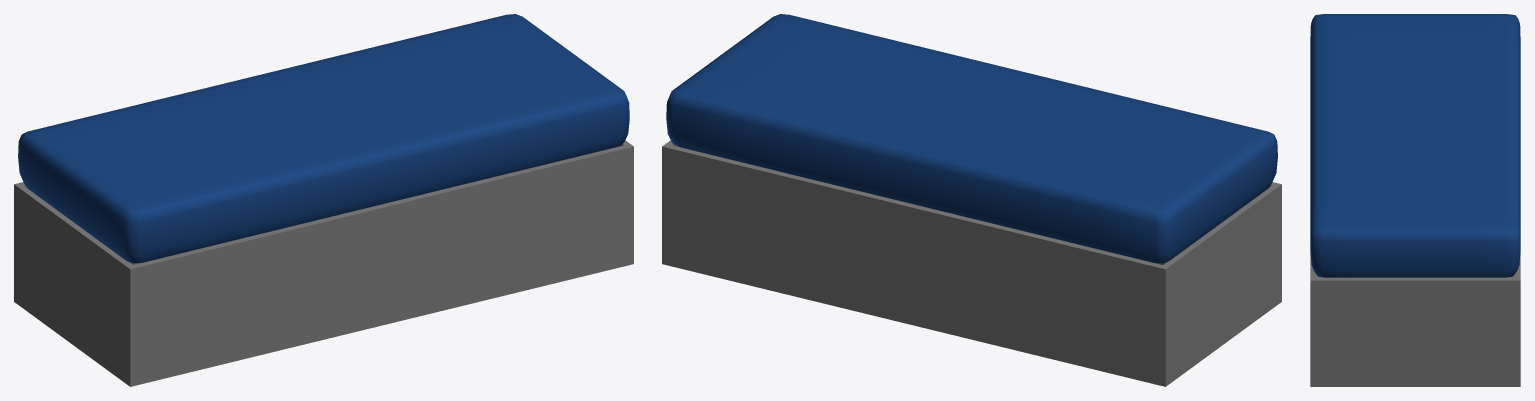
File: pouf.FBX
3 views of the same model, side by side, from view 1: azimuth 30°, elevation 25°; view 2: azimuth 150°, elevation 25°; view 3: azimuth 270°, elevation 25° (orthographic). The views are drawn at different scales.
Visible parts, largest first — view 1: pouf; view 2: pouf; view 3: pouf.
Boxes of the visible parts, <box> form: pouf: <box>14,14,633,386</box>; pouf: <box>662,14,1281,386</box>; pouf: <box>1310,14,1520,386</box>.
Bounding box in the file's own units: 200 × 80 × 65.
